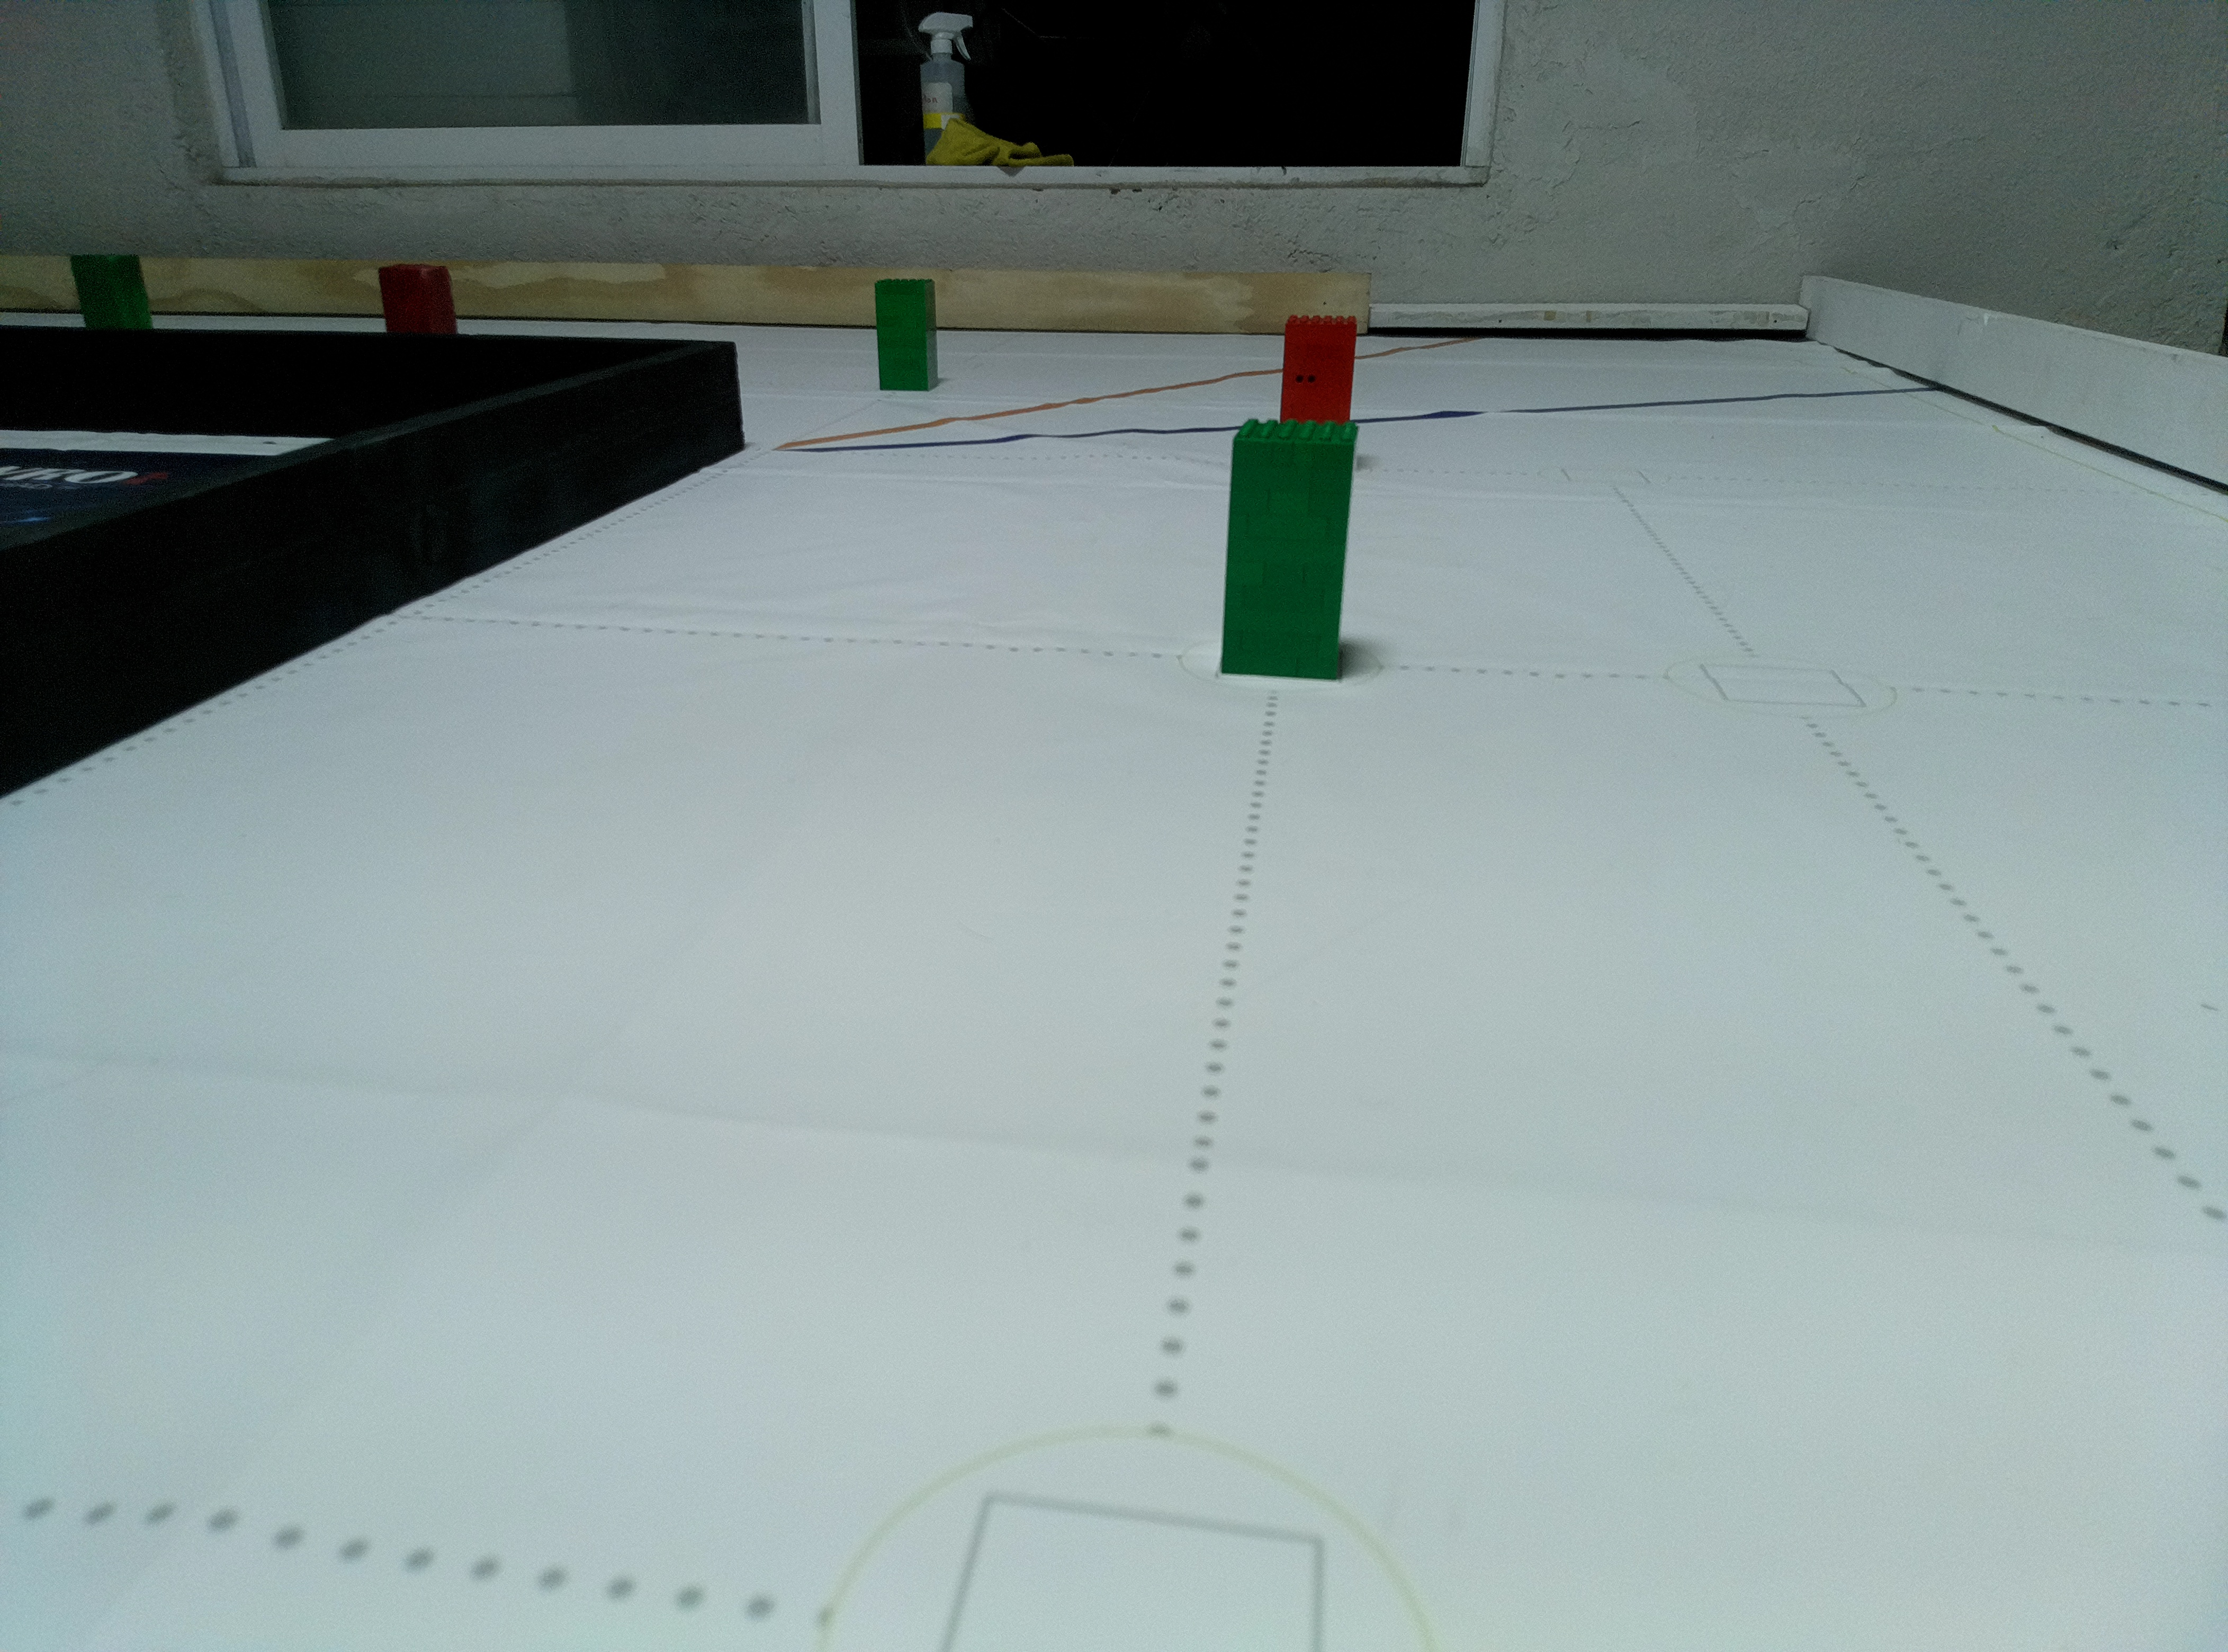greenbox: (1216, 415, 1359, 684), (873, 278, 940, 394), (66, 253, 160, 330)
redbox: (1279, 314, 1359, 420), (375, 264, 462, 337)
